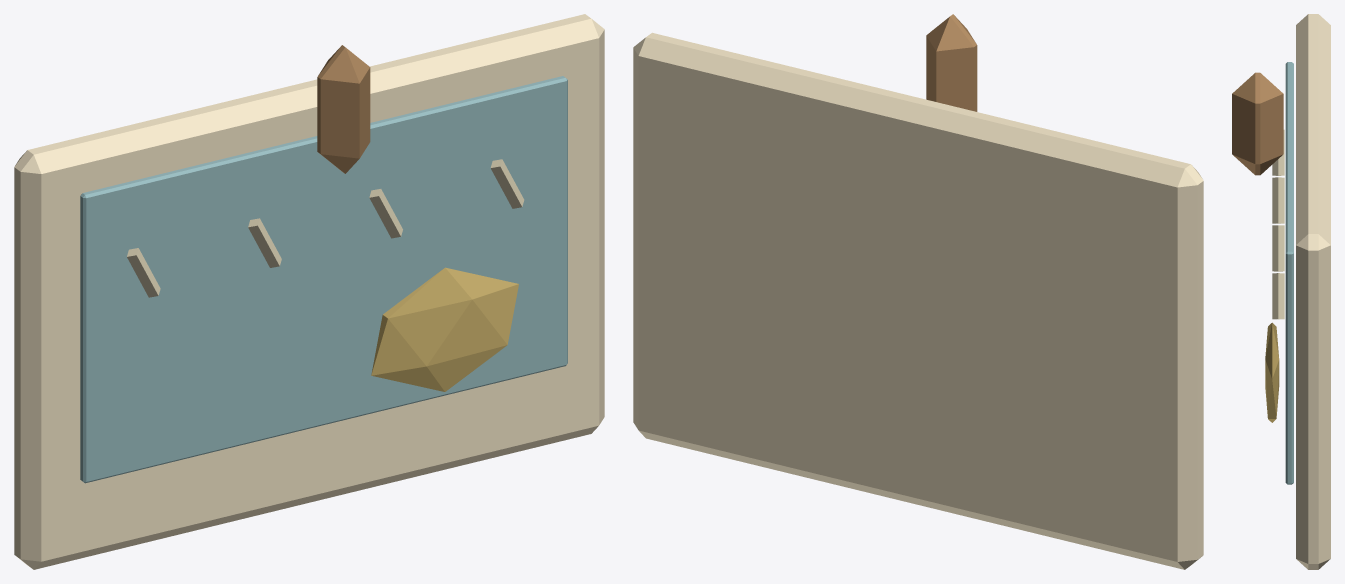
The model's file is rain-postcard.glb.
3 renders of one model, left to right at view 1: azimuth 30°, elevation 25°; view 2: azimuth 150°, elevation 25°; view 3: azimuth 270°, elevation 25°, orthographic. The views are drawn at different scales.
Parts seen in each view (by area): view 1: Rain_Postcard; view 2: Rain_Postcard; view 3: Rain_Postcard.
Part boxes in pixels (bbox=[...]): Rain_Postcard: bbox=[14, 14, 604, 569]; Rain_Postcard: bbox=[633, 14, 1203, 569]; Rain_Postcard: bbox=[1232, 14, 1330, 569].
Bounding box in the file's own units: 0.53 × 0.415 × 0.096.
